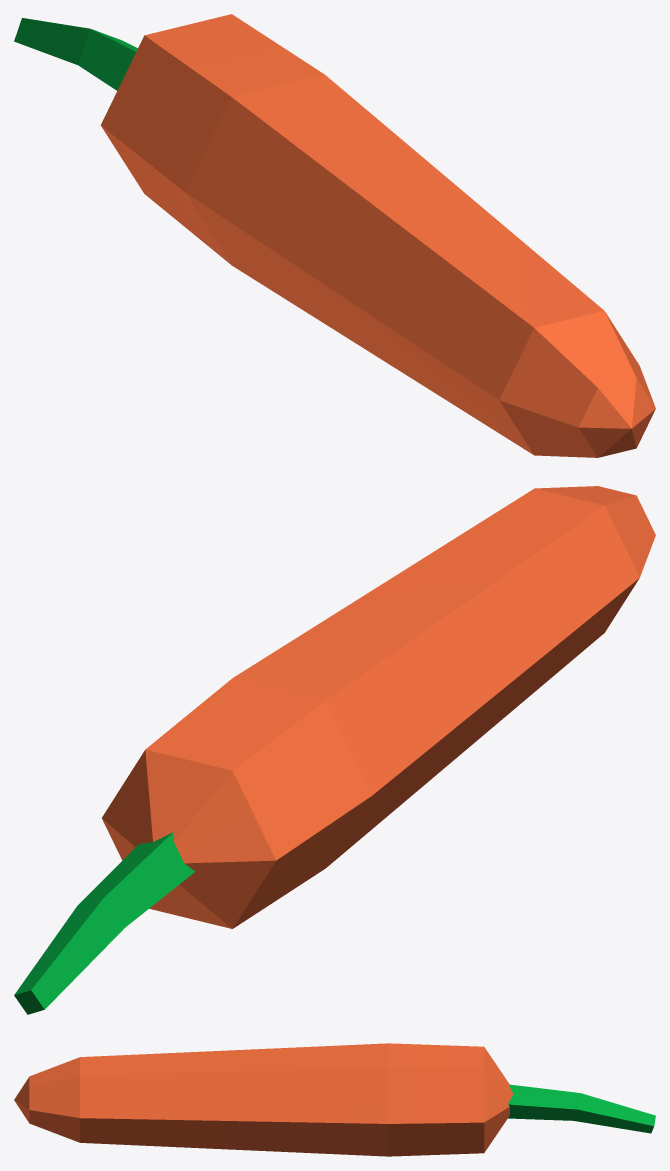
The model's file is carrot_001.obj.
3 renders of one model, top to bottom at view 1: azimuth 30°, elevation 25°; view 2: azimuth 150°, elevation 25°; view 3: azimuth 270°, elevation 25°, orthographic. The views are drawn at different scales.
Parts seen in each view (by area): view 1: carrot_001; view 2: carrot_001; view 3: carrot_001.
Part boxes in pixels (x1,y1,x2,y2): carrot_001: (14,14,655,457); carrot_001: (14,486,655,1014); carrot_001: (14,1043,655,1156).
Bounding box in the file's own units: 0.0356 × 0.0308 × 0.2011.
